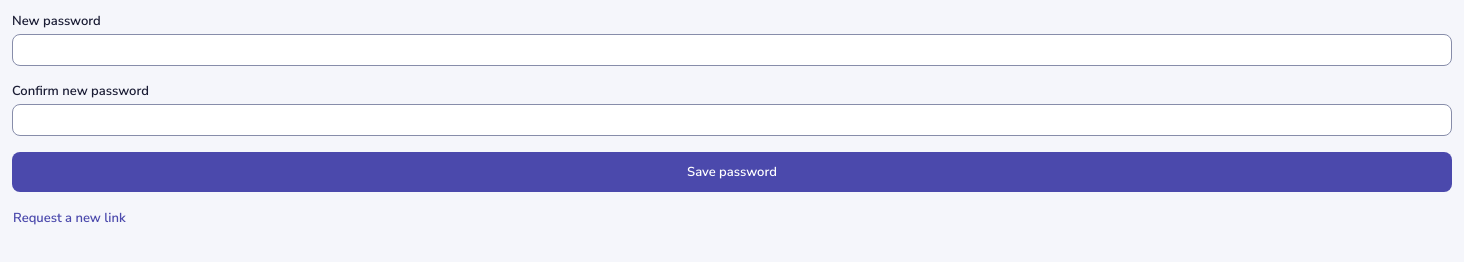
Test: ResetPasswordForm › shows the API's password rules on the field
Type "password123" into the password field labelled "New password" at x=732, y=50, box [12,34,1452,66]
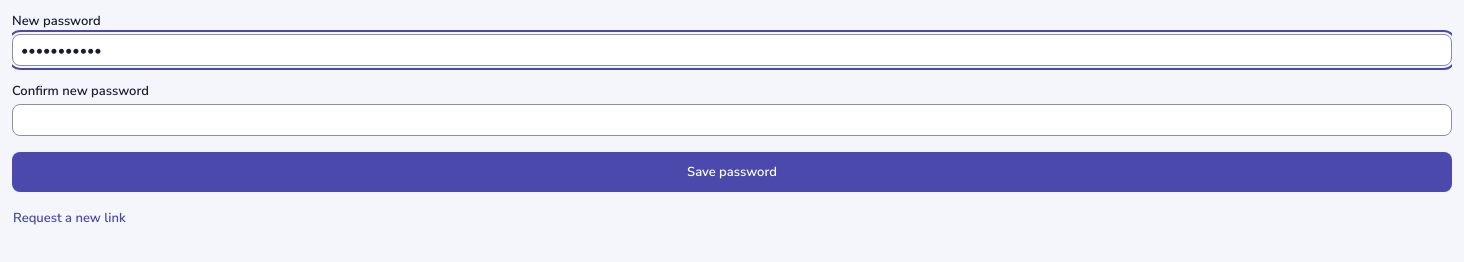
Type "password123" into the password field labelled "Confirm new password" at x=732, y=120, box [12,104,1452,136]
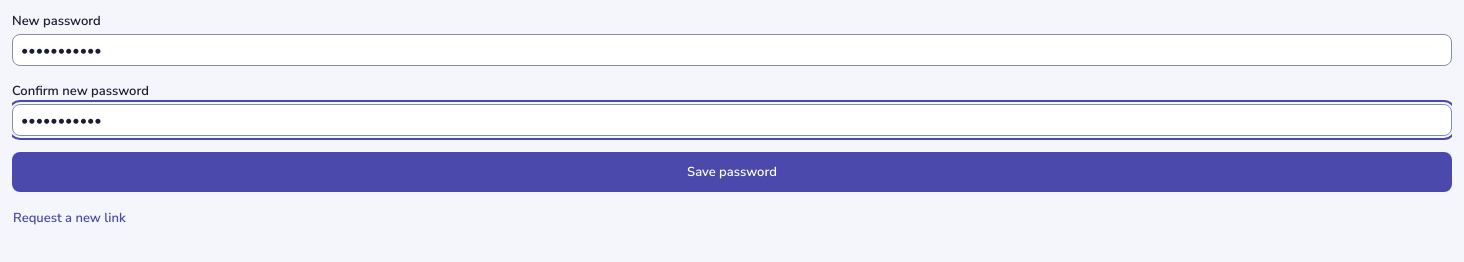
Click the button "Save password" at x=732, y=172, box [12,152,1452,192]
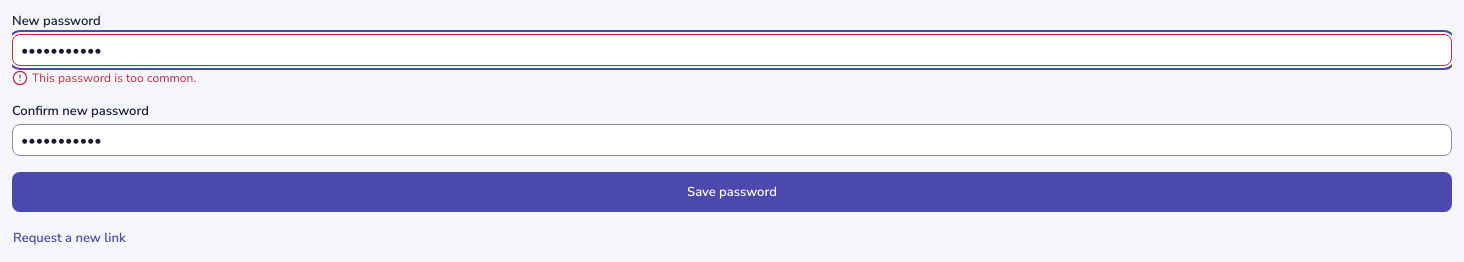
Now the text "This password is too common." is shown, box [12,70,196,86]
